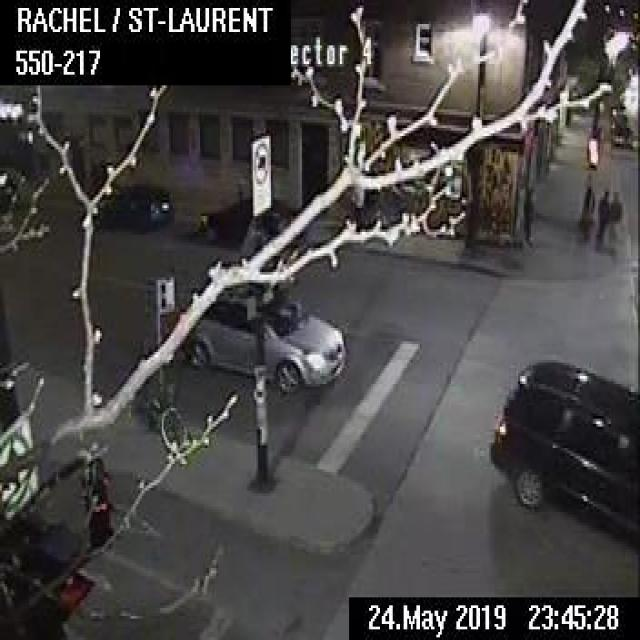pedestrian: (521, 183, 534, 243), (580, 182, 593, 240), (596, 188, 608, 245), (609, 188, 621, 245)
vehicle: (489, 355, 638, 557), (182, 280, 347, 395), (198, 194, 304, 248), (79, 179, 176, 232), (86, 232, 88, 235)
